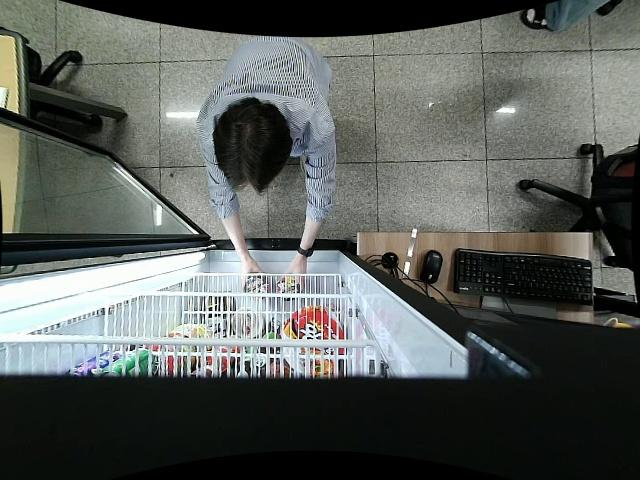00_hand: (282, 260, 308, 294), (242, 258, 265, 292)
08_buldak_S: (243, 272, 267, 294), (279, 274, 303, 295)
